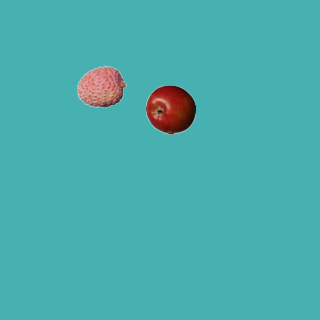Apple Braeburn: (145, 84, 195, 134)
Lychee: (76, 61, 126, 111)
